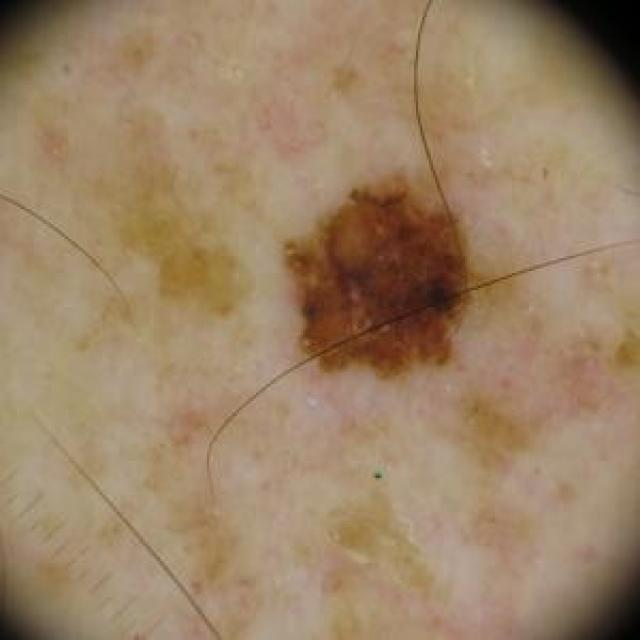Nao cancer: (279, 171, 473, 399)
